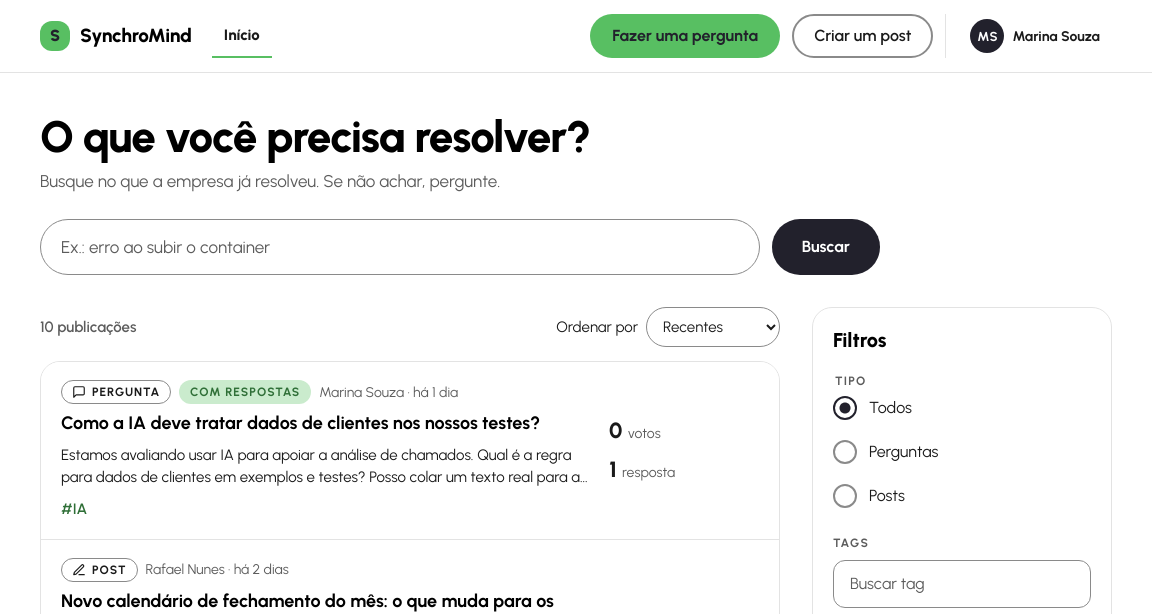
Test: B1 início: busca (HU-10) › acha sem diferenciar acento nem maiúscula e conta os resultados
The width and height of the screenshot is (1152, 614).
Expected: the heading "O que você precisa resolver?" is shown, [40,110,591,163]
Type "HOMOLOGACAO" into the search field named "buscar publicações". click: point(400, 247)
box: [40,219,760,275]
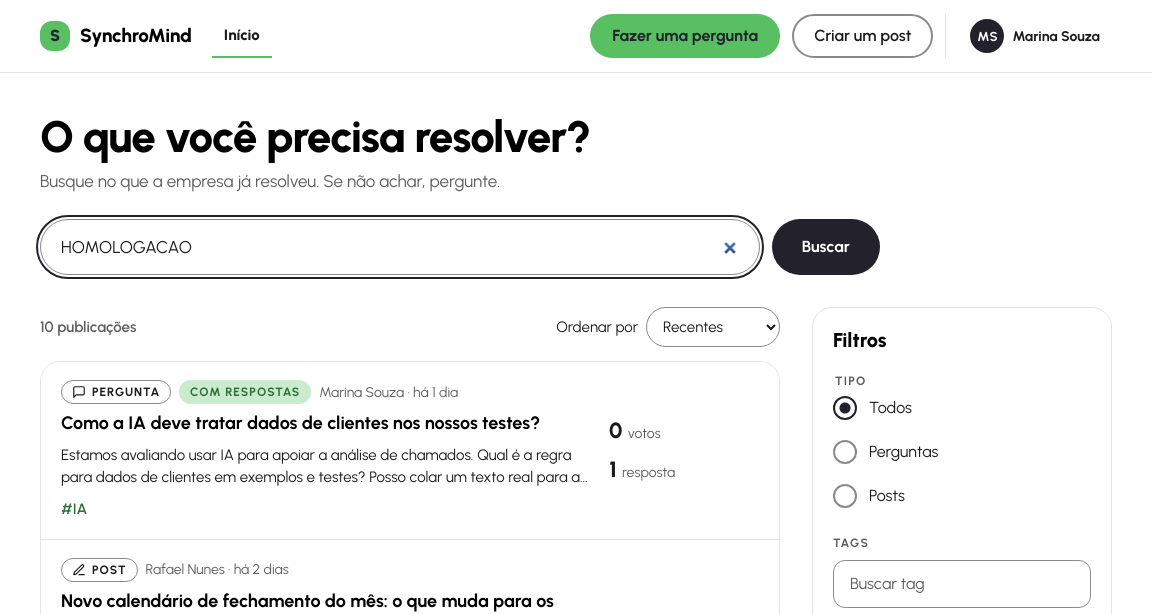
Click the button "Buscar". click: point(826, 247)
box: [772,219,880,275]
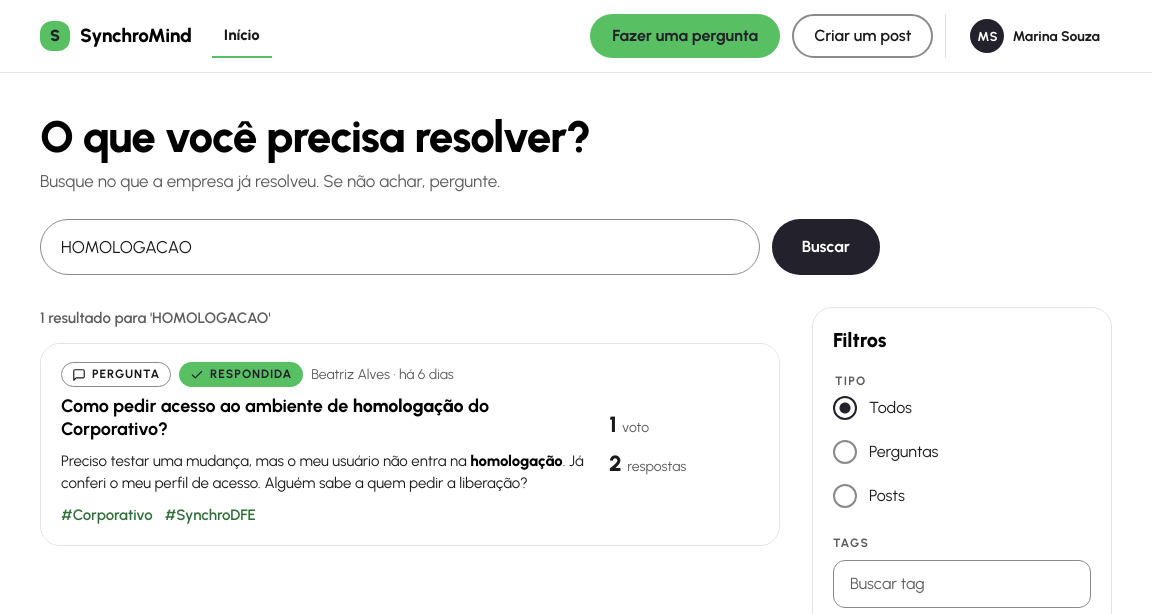
Expected: the link "Como pedir acesso ao ambiente de homologação do Corporativo?" is shown, [61,395,489,440]
Result: the text "1 resultado para 'HOMOLOGACAO'" is shown at [40,307,270,329]
